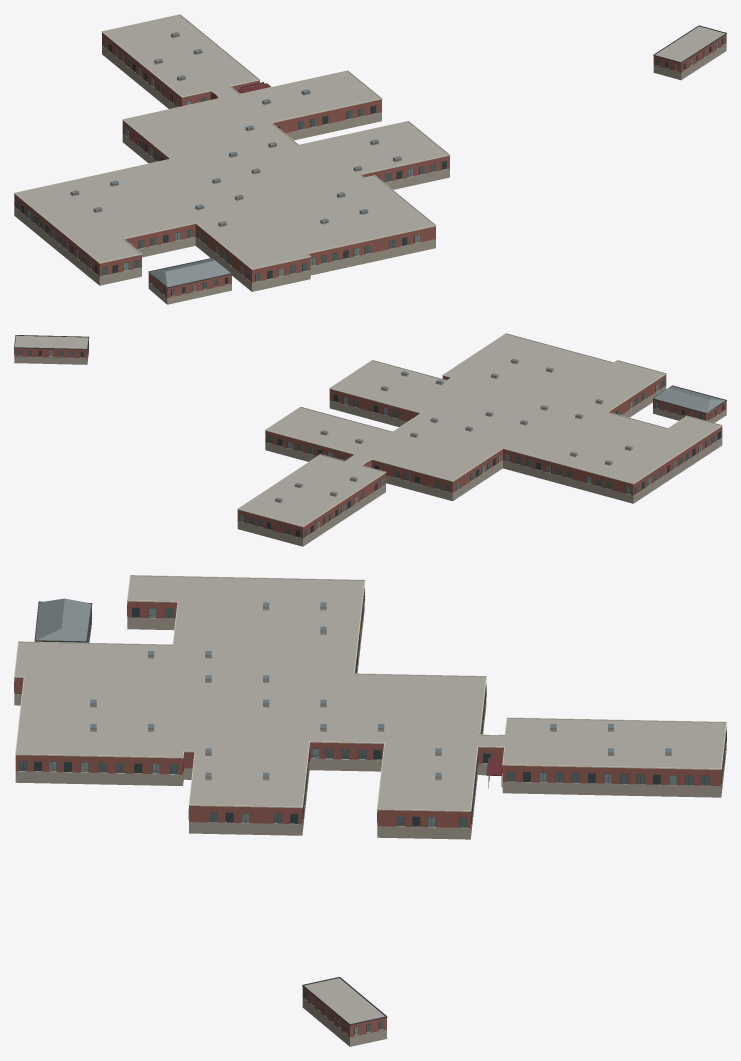
File: lafayette-middle.glb
3 renders of one model, top to bottom at view 1: azimuth 30°, elevation 25°; view 2: azimuth 150°, elevation 25°; view 3: azimuth 270°, elevation 25°, orthographic. The views are drawn at different scales.
Parts seen in each view (by area): view 1: 634383370 | Roof, 634383370 | Shell and foundation, 634383370 | Facades, 1427831069 | Roof, 634383372 | Roof; view 2: 634383370 | Roof, 634383370 | Shell and foundation, 634383370 | Facades, 1427831069 | Roof, 634383372 | Roof; view 3: 634383370 | Roof, 634383370 | Shell and foundation, 634383370 | Facades, 1427831069 | Roof, 634383372 | Roof.
Part boxes in pixels (box(x1,y1,x2,y2)): 634383370 | Roof: box(15, 15, 724, 271); 634383370 | Shell and foundation: box(14, 33, 726, 304); 634383370 | Facades: box(14, 14, 726, 296); 1427831069 | Roof: box(148, 258, 230, 287); 634383372 | Roof: box(70, 32, 401, 283); 634383370 | Roof: box(14, 334, 720, 526); 634383370 | Shell and foundation: box(14, 343, 726, 546); 634383370 | Facades: box(14, 333, 726, 538); 1427831069 | Roof: box(654, 386, 725, 413); 634383372 | Roof: box(275, 358, 710, 502); 634383370 | Roof: box(15, 576, 725, 1023); 634383370 | Shell and foundation: box(14, 588, 726, 1046); 634383370 | Facades: box(14, 575, 726, 1035); 1427831069 | Roof: box(35, 598, 90, 641); 634383372 | Roof: box(61, 598, 671, 779).
Size of the model in its own units: 217 by 8.2 by 149.
